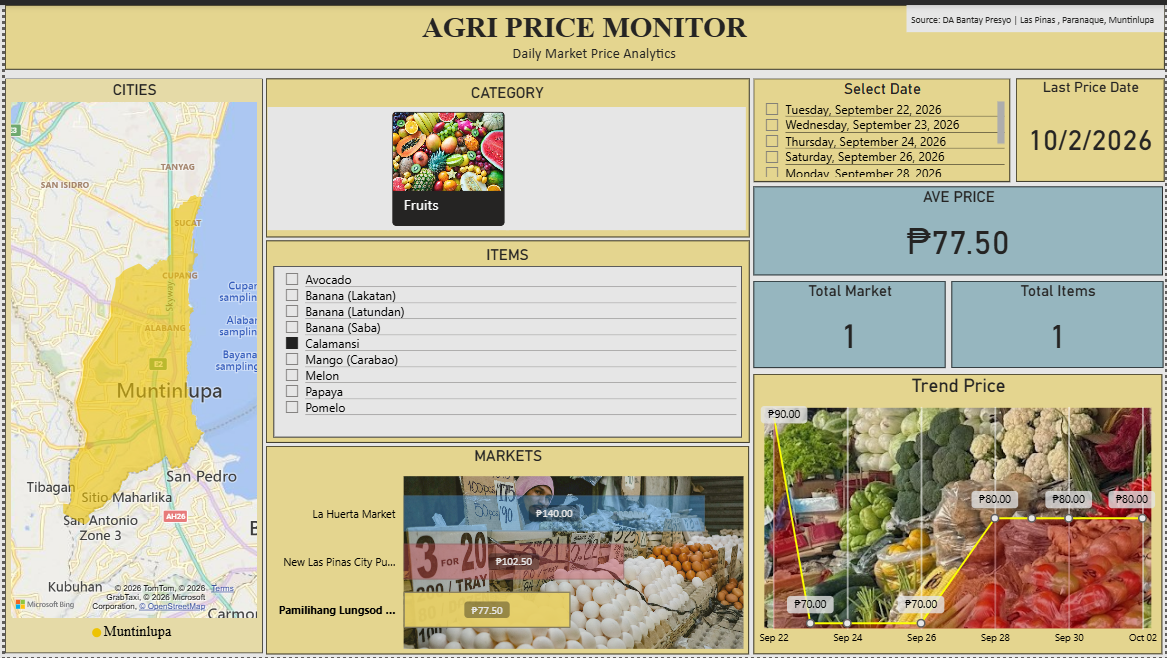

This screenshot's page, from the dashboard's own definition file:
{"tool":"powerbi","page":{"name":"Market Price Overview","canvas":[1280,720],"ordinal":0},"visuals":[{"type":"textbox","box":[288,260,534,223],"z":0},{"type":"textbox","box":[0,0,1280.5,71.2],"z":1000},{"type":"textbox","box":[995.5,0,284.9,29.8],"z":2000},{"type":"card","title":"AVE PRICE","fields":{"Values":["agriproject_db vw_price_analysis.Average Price"]},"box":[826.6,200.4,452.2,97.7],"z":3000},{"type":"card","title":"Total Items ","fields":{"Values":["agriproject_db vw_price_analysis.Items Covered"]},"box":[1044.7,304.9,234.1,95.9],"z":4000},{"type":"card","title":"Total Market","fields":{"Values":["agriproject_db vw_price_analysis.Markets covered"]},"box":[826.6,304.8,212,96.1],"z":5000},{"type":"card","title":"Last Price Date","fields":{"Values":["agriproject_db vw_price_analysis.Lates Price Date"]},"box":[1116.5,81.2,164,114.3],"z":6000},{"type":"slicer","title":"Select Date","fields":{"Values":["agriproject_db vw_price_analysis.price_date"]},"box":[826.6,81.2,283.3,114.3],"z":7000},{"type":"slicer","title":"ITEMS","fields":{"Values":["agriproject_db vw_price_analysis.item_name"]},"box":[297,288,517,189],"z":8000},{"type":"filledMap","title":"CITIES","fields":{"Category":["agriproject_db vw_price_analysis.city_name"],"Series":["agriproject_db vw_price_analysis.city_name"]},"box":[0,81.2,284.9,634.4],"z":9000},{"type":"lineChart","title":"Trend Price","fields":{"Y":["agriproject_db vw_price_analysis.Average Price"],"Category":["agriproject_db vw_price_analysis.price_date.Variation.Date Hierarchy.Year","agriproject_db vw_price_analysis.price_date.Variation.Date Hierarchy.Quarter","agriproject_db vw_price_analysis.price_date.Variation.Date Hierarchy.Month","agriproject_db vw_price_analysis.price_date.Variation.Date Hierarchy.Day"]},"box":[826.8,408.2,451.5,309.3],"z":10000},{"type":"barChart","title":"MARKETS","fields":{"Category":["agriproject_db vw_price_analysis.market_name"],"Y":["agriproject_db vw_price_analysis.Average Price"]},"box":[288.2,487,533.4,230.3],"z":11000},{"type":"textbox","box":[288,81,534,175],"z":12000},{"type":"advancedSlicerVisual","fields":{"Values":["agriproject_db vw_price_analysis.category_name"]},"box":[422.1,112.1,134,136],"z":13000},{"type":"advancedSlicerVisual","fields":{"Values":["agriproject_db vw_price_analysis.category_name"]},"box":[553.1,112.1,134,136],"z":14000},{"type":"advancedSlicerVisual","fields":{"Values":["agriproject_db vw_price_analysis.category_name"]},"box":[290.1,112.1,134,136],"z":15000},{"type":"advancedSlicerVisual","fields":{"Values":["agriproject_db vw_price_analysis.category_name"]},"box":[684.1,112.1,134,136],"z":16000}]}

Visuals, with their boxes in screenshot pixels (x1, y1, x2, y2), scaled from the page's 1280x720 canvas onto the 1167x658 screenshot:
textbox: (263, 238, 749, 441)
textbox: (0, 0, 1166, 65)
textbox: (908, 0, 1166, 27)
"AVE PRICE" card: (754, 183, 1166, 272)
"Total Items " card: (952, 279, 1166, 366)
"Total Market" card: (754, 279, 947, 366)
"Last Price Date" card: (1018, 74, 1166, 179)
"Select Date" slicer: (754, 74, 1012, 179)
"ITEMS" slicer: (271, 263, 742, 436)
"CITIES" filledMap: (0, 74, 260, 654)
"Trend Price" lineChart: (754, 373, 1165, 656)
"MARKETS" barChart: (263, 445, 749, 656)
textbox: (263, 74, 749, 234)
advancedSlicerVisual - agriproject_db vw_price_analysis.category_name: (385, 102, 507, 227)
advancedSlicerVisual - agriproject_db vw_price_analysis.category_name: (504, 102, 626, 227)
advancedSlicerVisual - agriproject_db vw_price_analysis.category_name: (264, 102, 387, 227)
advancedSlicerVisual - agriproject_db vw_price_analysis.category_name: (624, 102, 746, 227)
